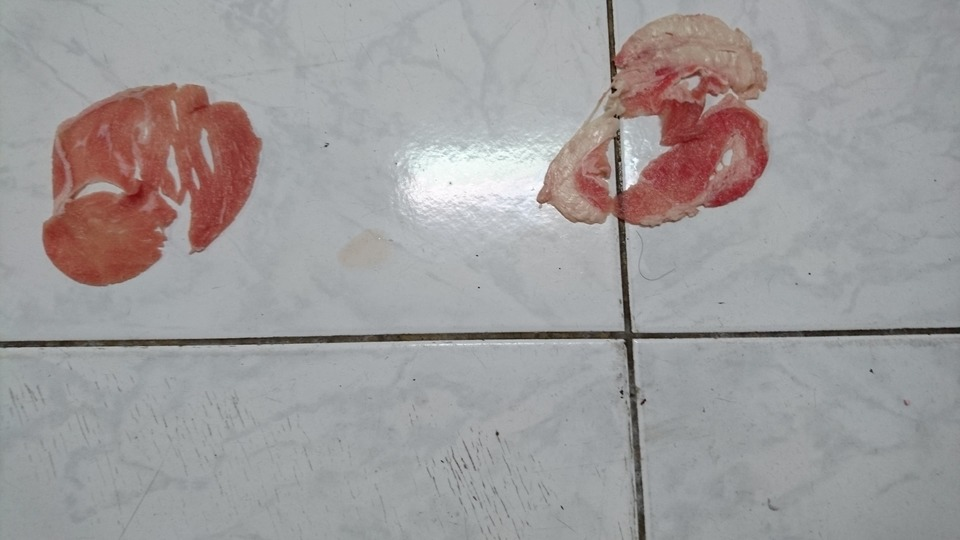restructured meat: (532, 4, 787, 227), (42, 81, 263, 286)
